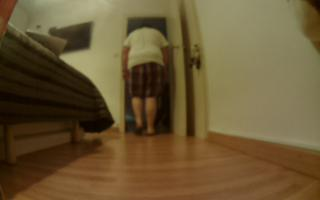person: (121, 21, 172, 137)
